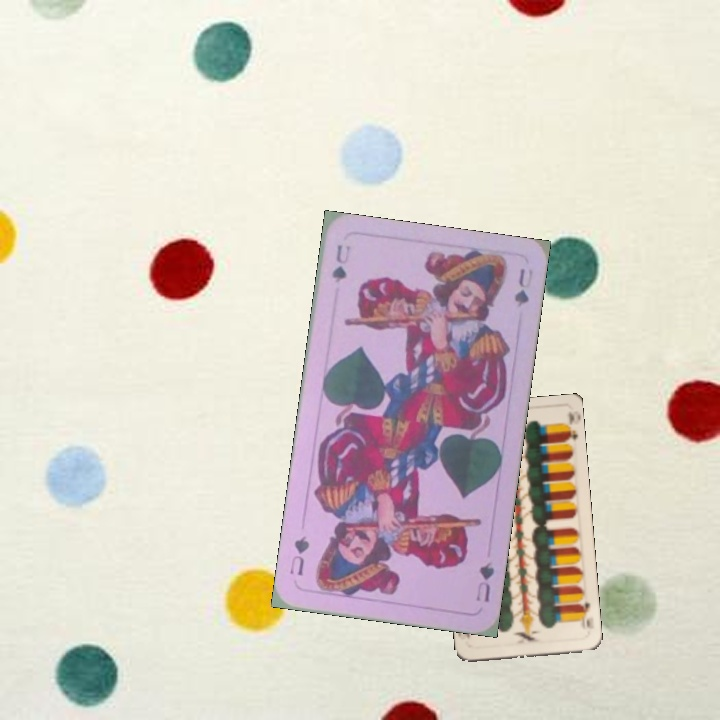E10: (575, 598, 592, 632)
GU: (472, 557, 497, 605), (328, 240, 353, 285)
